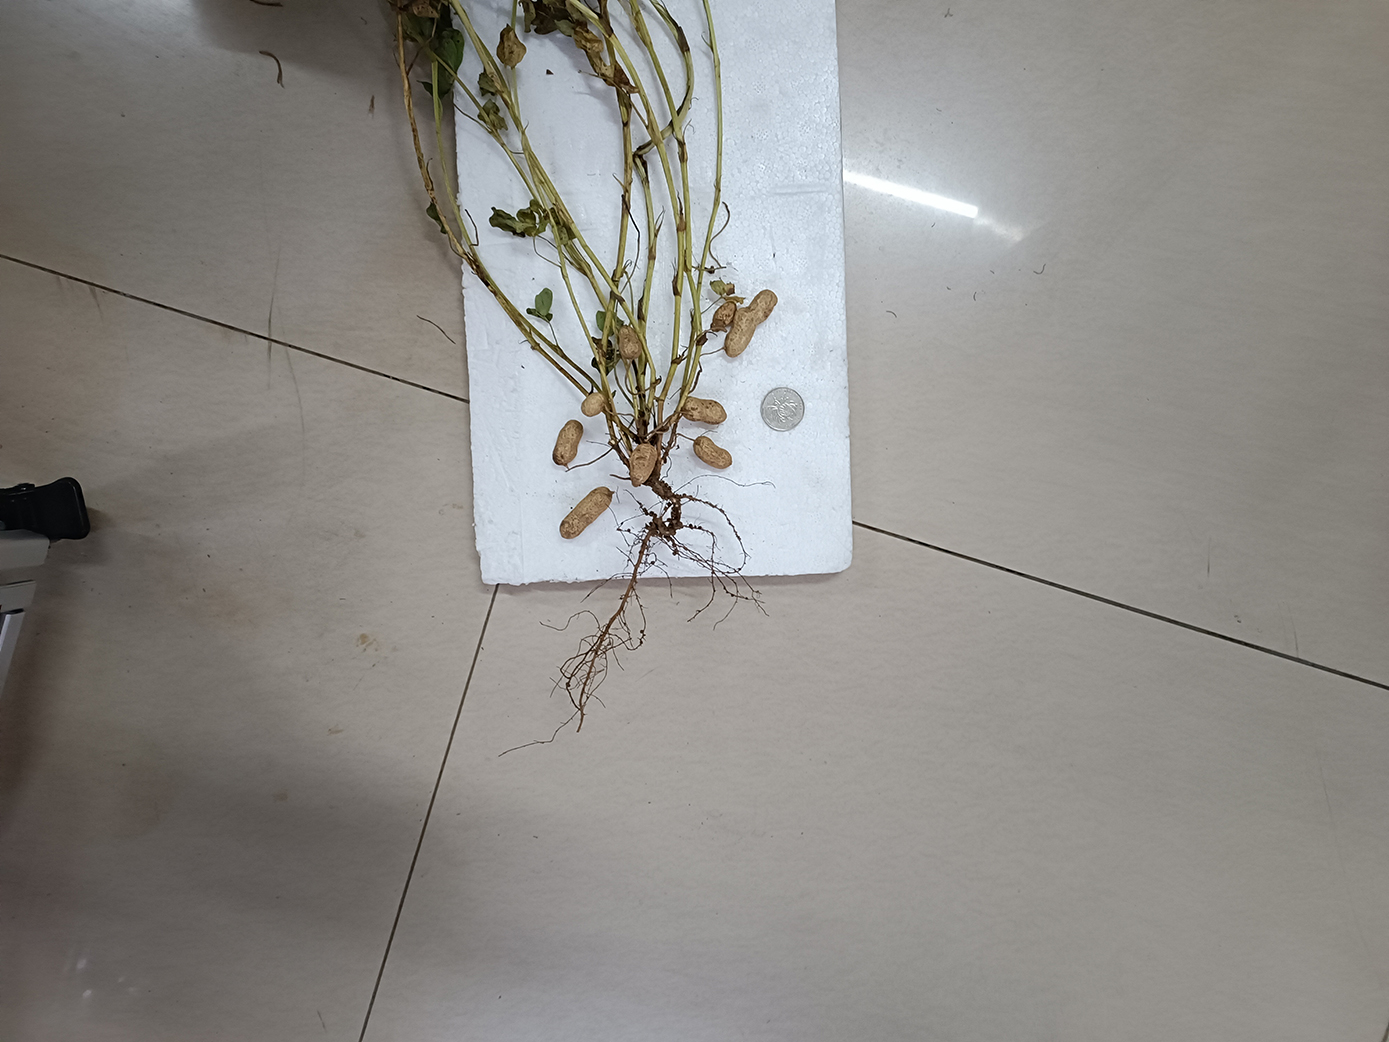h: (725, 289, 778, 357), (558, 485, 613, 539), (552, 419, 584, 466), (627, 443, 658, 486), (694, 435, 732, 468), (684, 395, 727, 425), (616, 325, 643, 359), (580, 393, 605, 417)
l: (711, 298, 738, 331)
